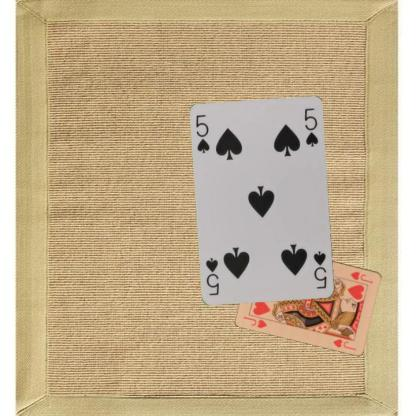5s: (194, 112, 212, 155), (311, 249, 328, 290)
Jh: (348, 269, 374, 285), (242, 313, 268, 329)
